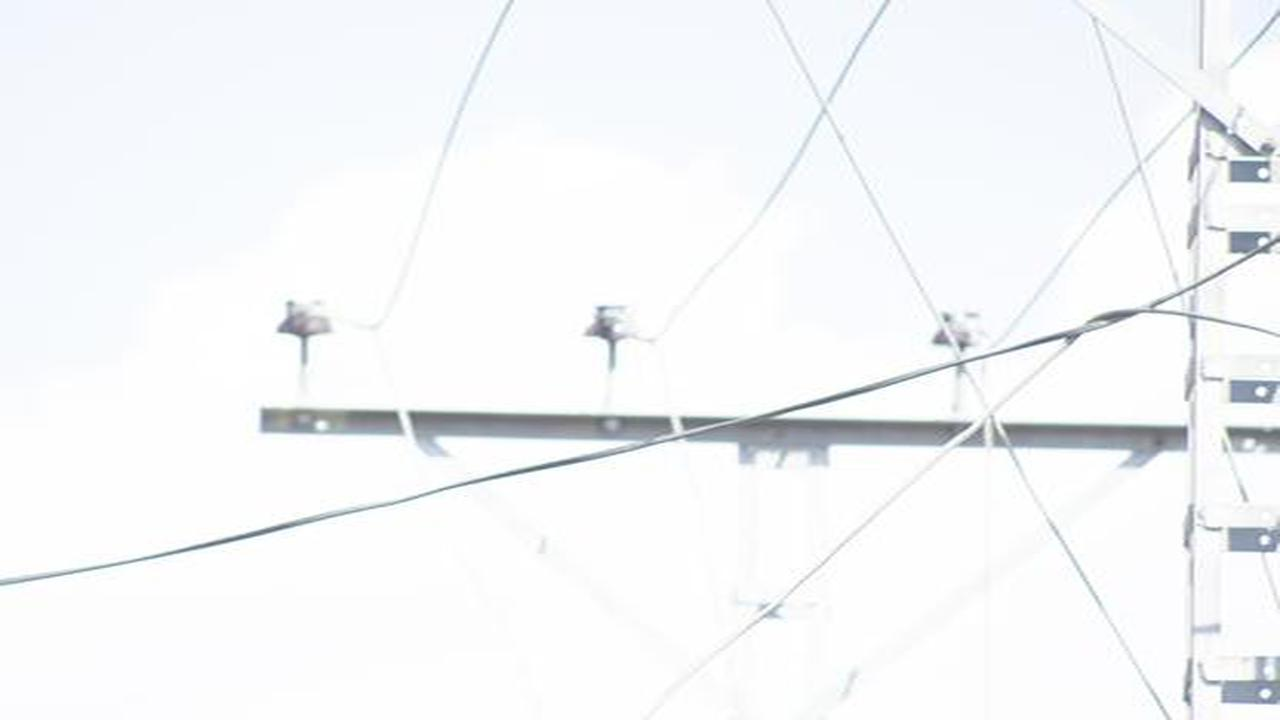insulator_pin: (573, 299, 646, 350), (928, 304, 995, 354), (275, 296, 335, 343)
